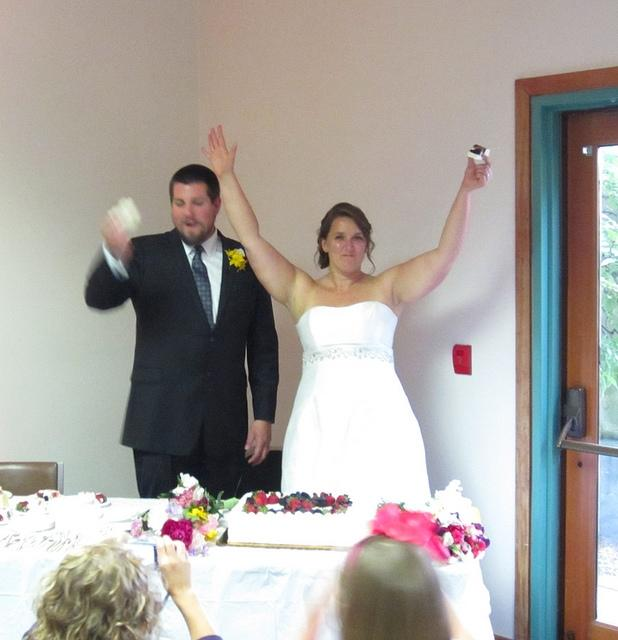strawberry: (251, 490, 268, 506), (242, 504, 258, 514), (289, 499, 301, 512), (324, 494, 336, 506), (300, 499, 312, 511), (268, 491, 278, 504), (337, 496, 348, 504), (330, 508, 339, 515), (342, 504, 351, 508)
